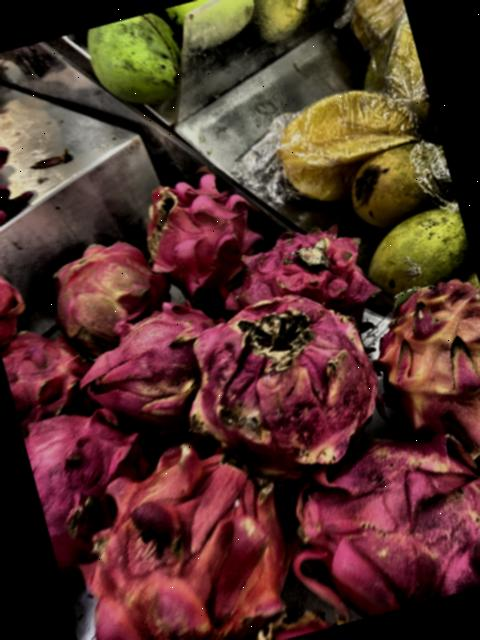buah-naga-belum-matang: (61, 442, 316, 640), (172, 278, 403, 494), (362, 267, 480, 492), (75, 304, 220, 444), (40, 235, 170, 343)
buah-naga-matang: (273, 407, 480, 630), (18, 395, 154, 553), (132, 157, 266, 300), (219, 217, 372, 341), (0, 320, 104, 431), (0, 71, 41, 241), (0, 242, 32, 341)
